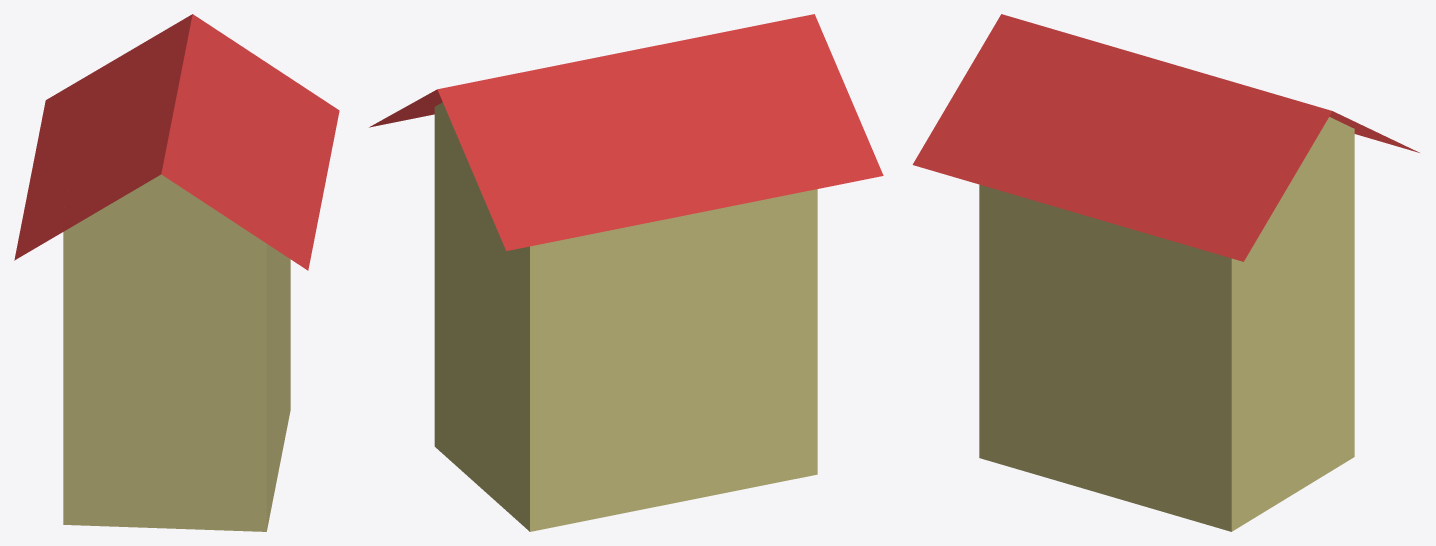
3 renders of one model, left to right at view 1: azimuth 30°, elevation 25°; view 2: azimuth 150°, elevation 25°; view 3: azimuth 270°, elevation 25°, orthographic. The views are drawn at different scales.
Parts seen in each view (by area): view 1: group_5, group_3, group_4; view 2: group_5, group_3, group_4; view 3: group_5, group_3, group_4.
Part boxes in pixels (x1,y1,x2,y2): group_5: (63,174,290,531); group_3: (63,14,339,270); group_4: (14,14,235,260); group_5: (434,102,817,531); group_3: (437,14,817,250); group_4: (369,14,883,250); group_5: (979,117,1354,531); group_3: (912,14,1419,261); group_4: (997,14,1209,251).
Size of the model in its own units: 15.19 by 15.9 by 13.61.
